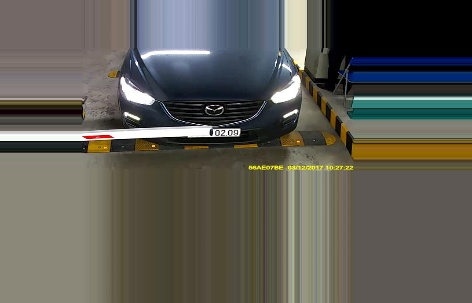plate: (190, 124, 241, 142)
